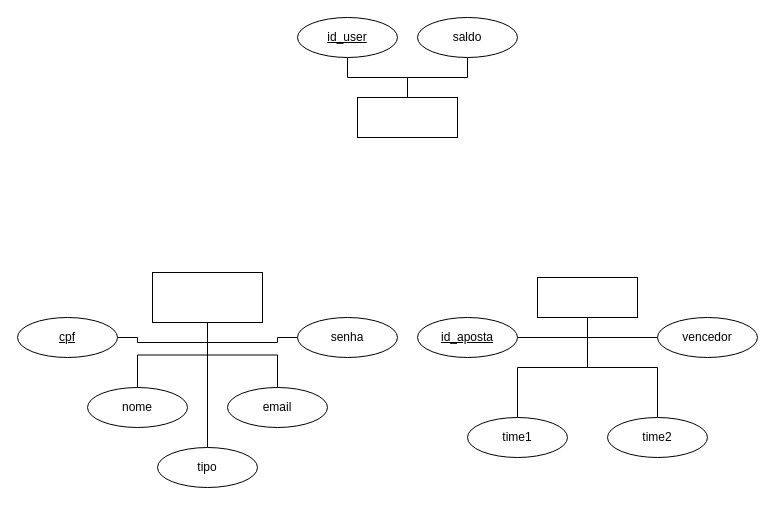
Some shapes in this 775 by 505 pixel diagram are drawn without their labels. Each missing label, with the box of its shape:
APOSTA: (536, 276, 638, 318)
CONTA: (356, 96, 458, 138)
USUARIO: (152, 272, 262, 322)
